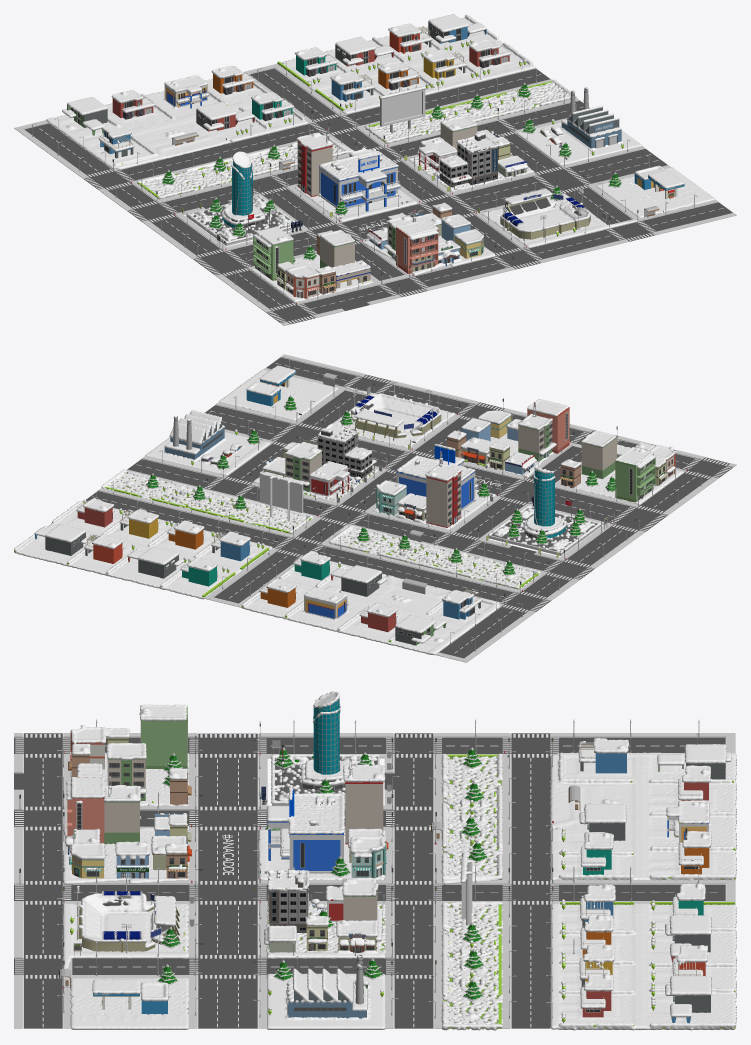
The model's file is city-snow.glb.
3 renders of one model, top to bottom at view 1: azimuth 30°, elevation 25°; view 2: azimuth 150°, elevation 25°; view 3: azimuth 270°, elevation 25°, orthographic. The views are drawn at different scales.
Parts seen in each view (by area): view 1: Plaza01.003, SnowBall.007, SnowBall.005, SnowBall.006, SnowBall.003, SnowBall.004, SnowBall.002, SnowBall.001; view 2: Plaza01.003, SnowBall.007, SnowBall.005, SnowBall.006, SnowBall.002, SnowBall.004, SnowBall.003, SnowBall.001; view 3: Plaza01.003, SnowBall.007, SnowBall.005, SnowBall.006, SnowBall.003, SnowBall.004, SnowBall.002, SnowBall.001.
Boxes of the visible parts, left/top/right/bottom form: Plaza01.003: left=14, top=22, right=736, bottom=325; SnowBall.007: left=46, top=14, right=535, bottom=169; SnowBall.005: left=251, top=165, right=715, bottom=302; SnowBall.006: left=137, top=79, right=576, bottom=199; SnowBall.003: left=295, top=128, right=417, bottom=222; SnowBall.004: left=408, top=115, right=534, bottom=191; SnowBall.002: left=516, top=87, right=641, bottom=165; SnowBall.001: left=186, top=151, right=298, bottom=243; Plaza01.003: left=14, top=354, right=736, bottom=662; SnowBall.007: left=14, top=498, right=500, bottom=655; SnowBall.005: left=219, top=365, right=683, bottom=504; SnowBall.006: left=101, top=469, right=540, bottom=588; SnowBall.002: left=145, top=410, right=270, bottom=475; SnowBall.004: left=253, top=423, right=378, bottom=501; SnowBall.003: left=373, top=444, right=495, bottom=529; SnowBall.001: left=488, top=467, right=600, bottom=553; Plaza01.003: left=14, top=699, right=735, bottom=1028; SnowBall.007: left=550, top=738, right=736, bottom=1030; SnowBall.005: left=62, top=704, right=189, bottom=1029; SnowBall.006: left=441, top=753, right=503, bottom=1030; SnowBall.003: left=257, top=758, right=386, bottom=880; SnowBall.004: left=264, top=869, right=386, bottom=958; SnowBall.002: left=266, top=955, right=385, bottom=1029; SnowBall.001: left=271, top=691, right=379, bottom=804.
Size of the model in its own units: 13.22 by 2.01 by 13.65.
Materials: 75 (63 with a texture image).
